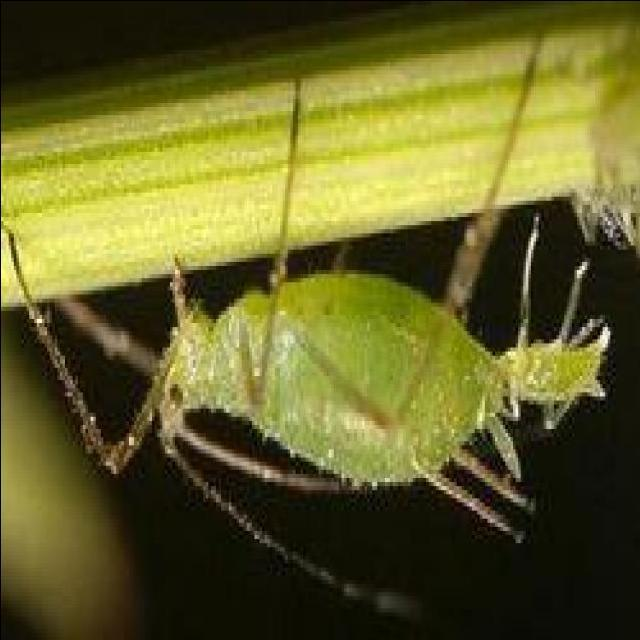aphid: (110, 88, 594, 568)
